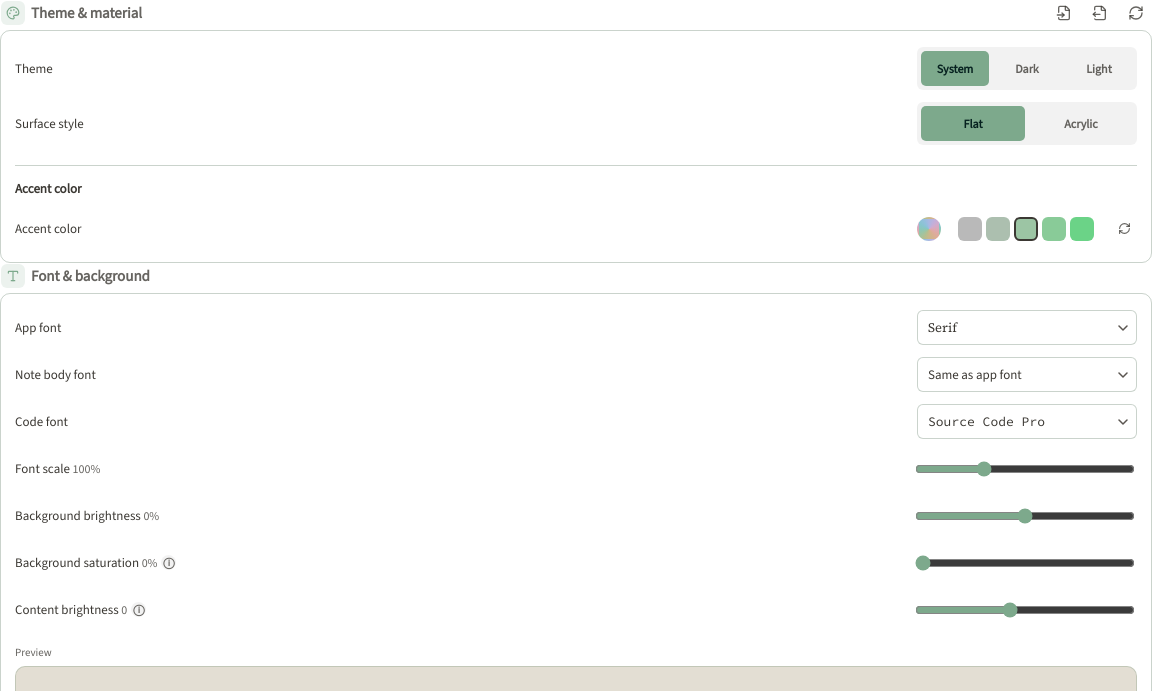
Test case: AppearanceSection (W11 / W23-d) › 강조색 — hue 슬라이더 1칩 + 채도 5칩 + 초기화 › hue 팝오버는 열리면 슬라이더로 포커스가 들어가고, 움직이지 않은 blur 는 저장하지 않으며, Escape 는 칩으로 돌려준다
Click the button with test id "accent-hue-chip" at (929, 228), box [917,216,941,240]
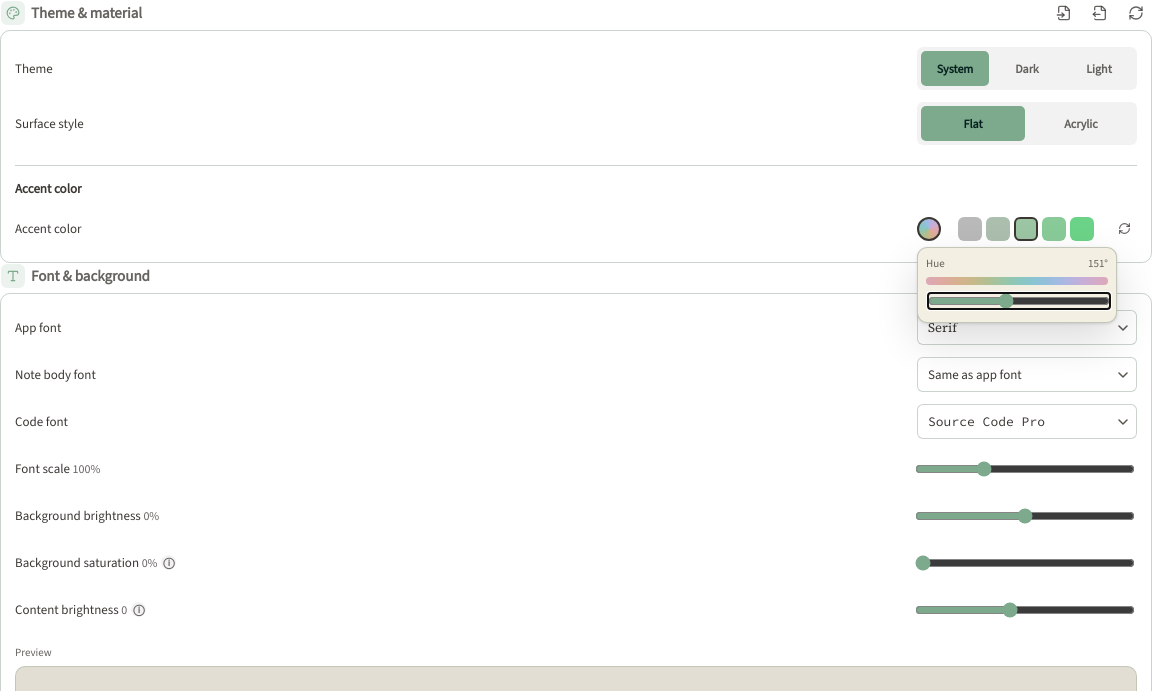
Press Escape
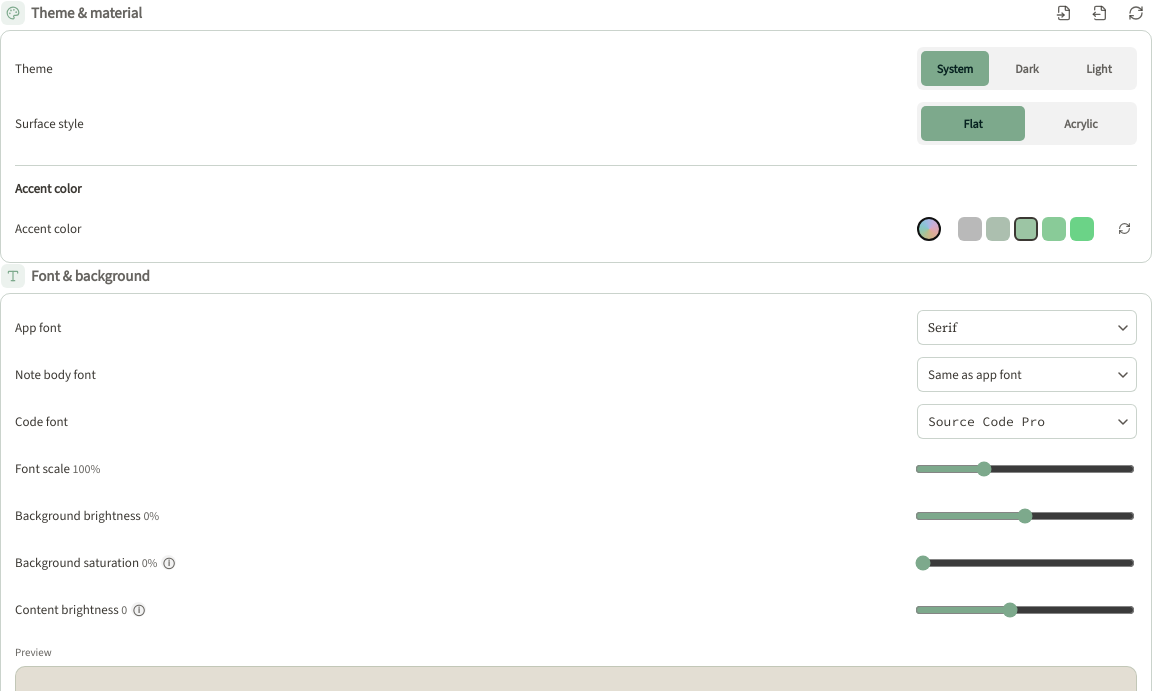
Check: the dialog with test id "accent-hue-popover" is gone
